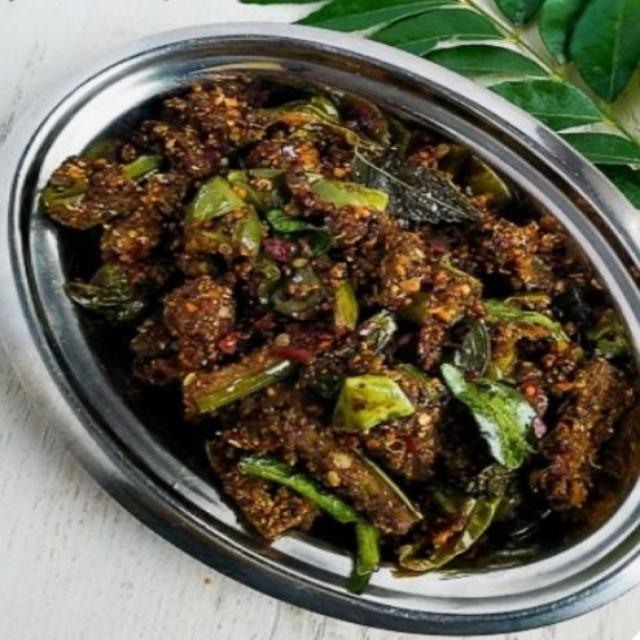CHICKEN FRY: (44, 100, 625, 532)
